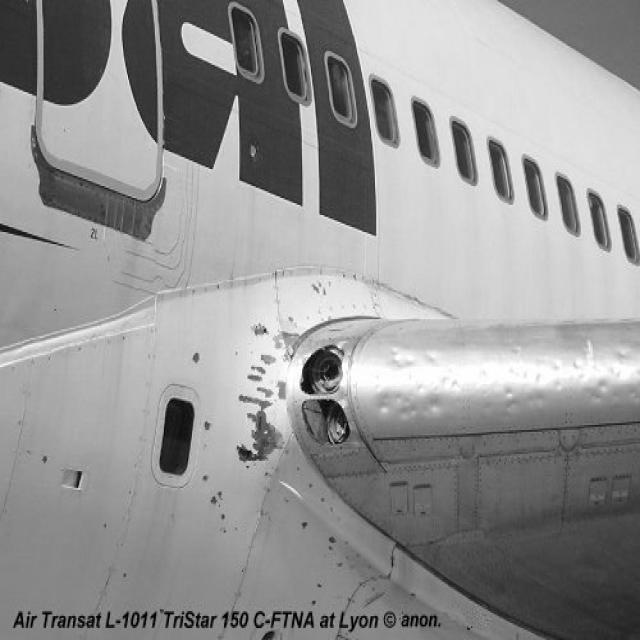dent: (372, 342, 640, 424)
